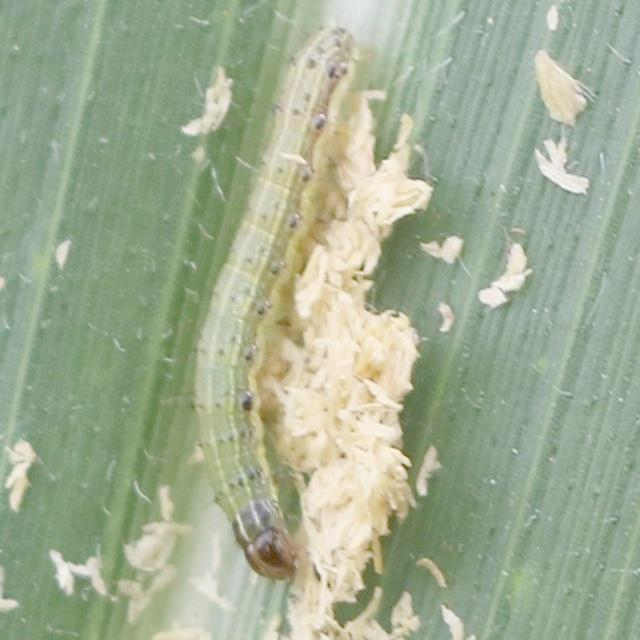gusano_cogollero: (182, 14, 368, 582)
